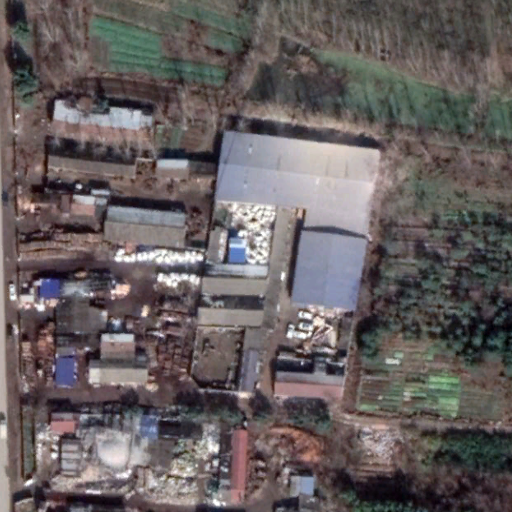msw: (135, 425, 220, 502), (210, 193, 273, 277)
